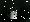person: (8, 9, 17, 19)
